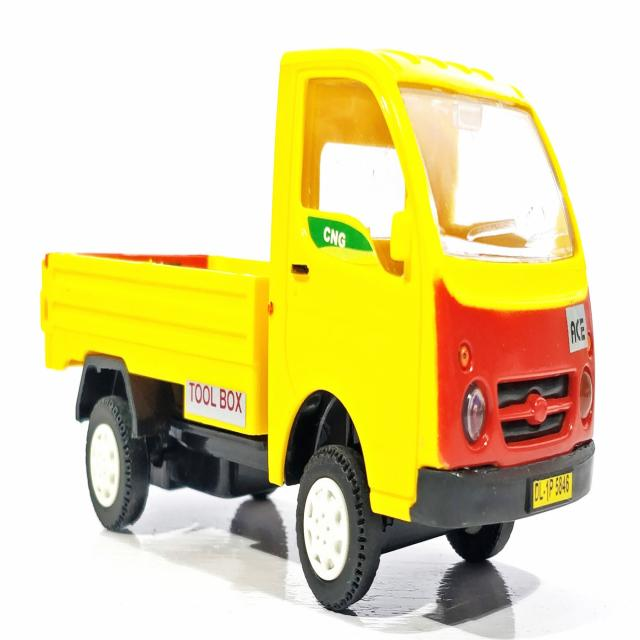truck: (40, 51, 595, 611)
